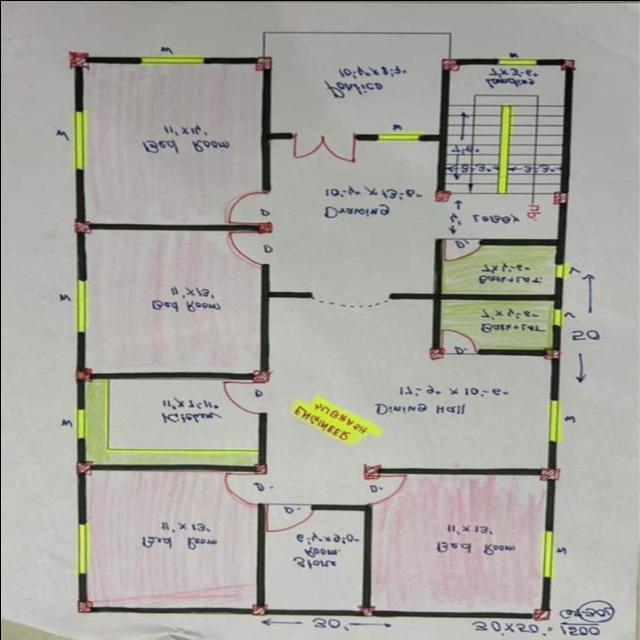column: (248, 52, 280, 74), (534, 461, 564, 484), (64, 48, 92, 72), (360, 459, 389, 482), (242, 368, 276, 386), (525, 604, 554, 624), (535, 344, 566, 362), (68, 598, 97, 617), (548, 187, 574, 208), (243, 600, 273, 618), (354, 598, 378, 620), (70, 456, 96, 476), (424, 344, 450, 364), (246, 459, 272, 478), (68, 367, 98, 383), (436, 54, 462, 72), (70, 216, 94, 235), (252, 218, 278, 234), (554, 56, 580, 72), (430, 186, 453, 203)
